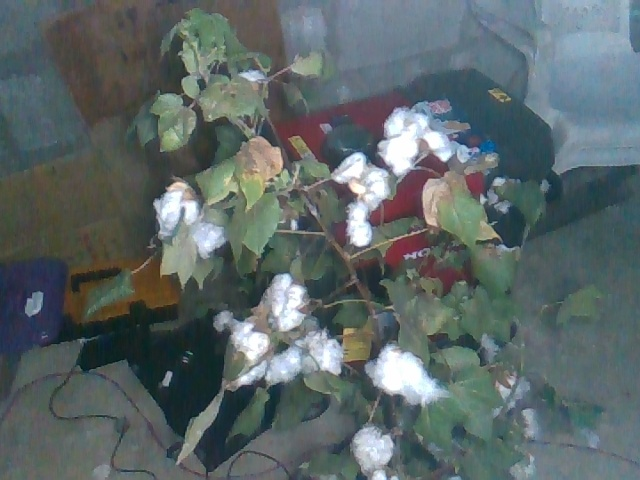cotton: (328, 149, 396, 250), (361, 340, 455, 405), (208, 310, 275, 396), (376, 104, 454, 177), (257, 271, 313, 332), (347, 421, 403, 480), (149, 186, 201, 237), (489, 368, 534, 426), (297, 328, 345, 378), (265, 346, 304, 391), (189, 220, 228, 261), (507, 451, 537, 480), (521, 408, 544, 444)
